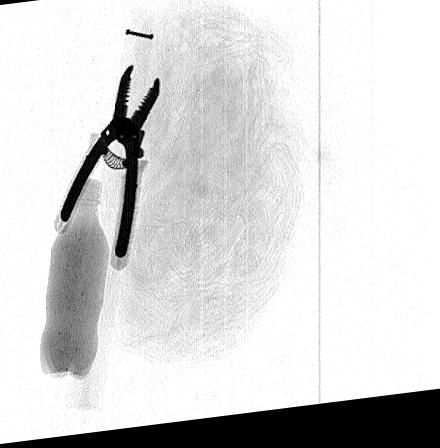Pliers: (58, 65, 161, 264)
